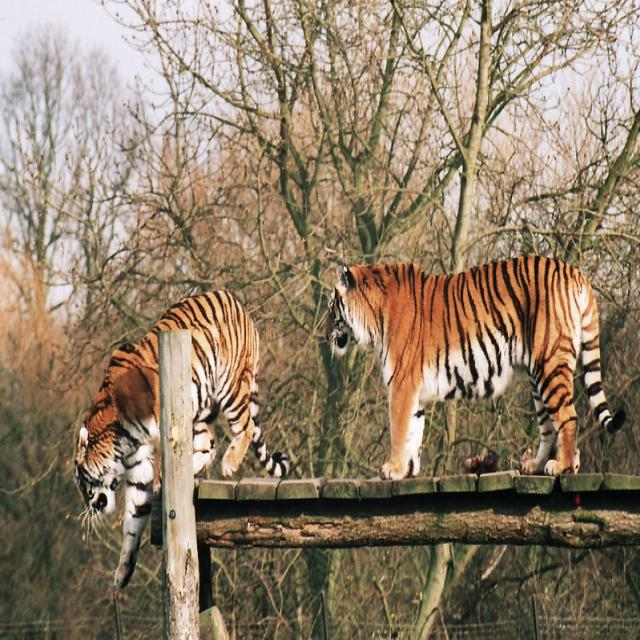Tiger: (324, 255, 621, 477), (73, 289, 287, 586)
